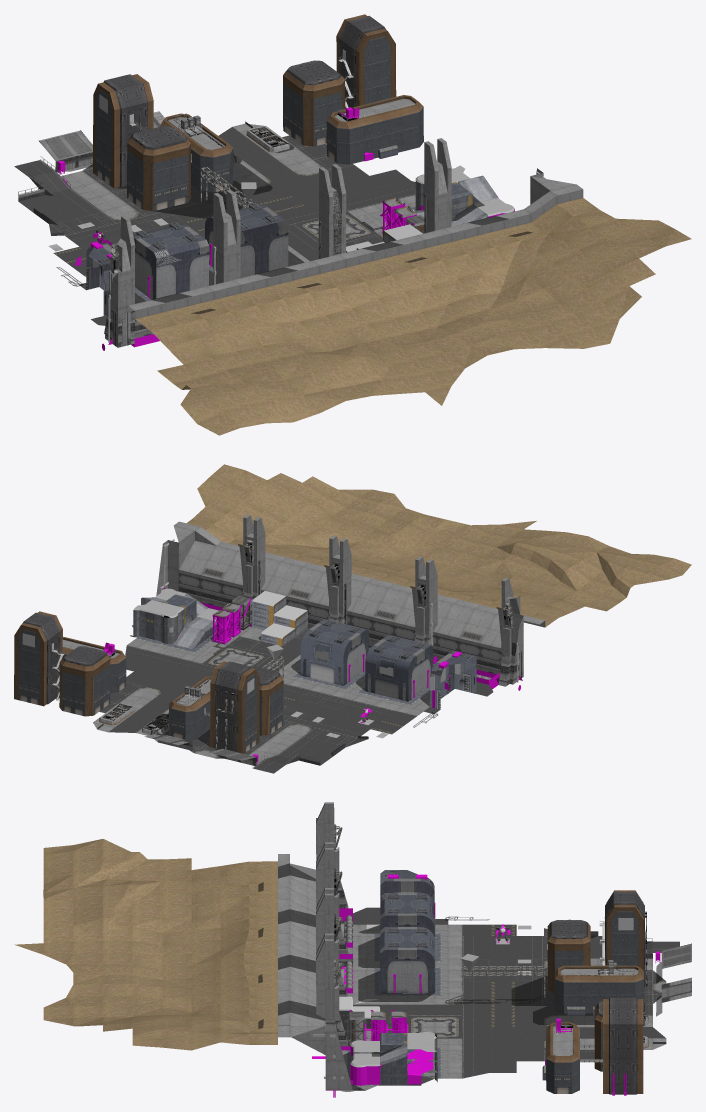
The model's file is all.fbx.
3 renders of one model, top to bottom at view 1: azimuth 30°, elevation 25°; view 2: azimuth 150°, elevation 25°; view 3: azimuth 270°, elevation 25°, orthographic. The views are drawn at different scales.
Visible parts, largest first — view 1: polySurface2, scenebackup:Object009, scenebackup:Object002, scenebackup:Object001, scenebackup:polySurface669, scenebackup:Object007, scenebackup:Object008, scenebackup:polySurface654, scenebackup:polySurface61, scenebackup:Object003, scenebackup:polySurface60, scenebackup:polySurface58 (+5 smaller); view 2: polySurface2, scenebackup:Object001, scenebackup:Object007, scenebackup:polySurface669, scenebackup:polySurface654, scenebackup:Object008, scenebackup:polySurface651, scenebackup:polySurface61, scenebackup:Object003, polySurface3, scenebackup:polySurface58, scenebackup:polySurface59 (+3 smaller); view 3: polySurface2, scenebackup:Object007, scenebackup:polySurface654, scenebackup:Object003, scenebackup:Object001, scenebackup:Object009, scenebackup:Object002, scenebackup:polySurface58, scenebackup:polySurface584, scenebackup:polySurface669, scenebackup:polySurface60, scenebackup:polySurface59 (+12 smaller).
Boxes of the visible parts, x1=… form: polySurface2: x1=14, y1=121, x2=691, y2=435; scenebackup:Object009: x1=326, y1=95, x2=423, y2=164; scenebackup:Object002: x1=127, y1=125, x2=190, y2=211; scenebackup:Object001: x1=93, y1=74, x2=153, y2=188; scenebackup:polySurface669: x1=133, y1=224, x2=209, y2=299; scenebackup:Object007: x1=336, y1=14, x2=396, y2=109; scenebackup:Object008: x1=283, y1=60, x2=345, y2=146; scenebackup:polySurface654: x1=205, y1=204, x2=288, y2=278; scenebackup:polySurface61: x1=104, y1=215, x2=135, y2=347; scenebackup:Object003: x1=160, y1=113, x2=233, y2=192; scenebackup:polySurface60: x1=213, y1=189, x2=240, y2=284; scenebackup:polySurface58: x1=424, y1=138, x2=451, y2=233; polySurface2: x1=93, y1=464, x2=691, y2=773; scenebackup:Object001: x1=210, y1=661, x2=259, y2=753; scenebackup:Object007: x1=14, y1=611, x2=62, y2=706; scenebackup:polySurface669: x1=365, y1=634, x2=433, y2=701; scenebackup:polySurface654: x1=300, y1=619, x2=368, y2=685; scenebackup:Object008: x1=59, y1=646, x2=110, y2=716; scenebackup:polySurface651: x1=252, y1=591, x2=307, y2=646; scenebackup:polySurface61: x1=498, y1=577, x2=523, y2=686; scenebackup:Object003: x1=169, y1=676, x2=211, y2=740; polySurface3: x1=429, y1=650, x2=476, y2=709; scenebackup:polySurface58: x1=242, y1=514, x2=265, y2=622; scenebackup:polySurface59: x1=328, y1=535, x2=351, y2=624; polySurface2: x1=14, y1=839, x2=679, y2=1090; scenebackup:Object007: x1=603, y1=997, x2=643, y2=1094; scenebackup:polySurface654: x1=380, y1=927, x2=434, y2=993; scenebackup:Object003: x1=554, y1=965, x2=644, y2=1013; scenebackup:Object001: x1=605, y1=890, x2=645, y2=988; scenebackup:Object009: x1=546, y1=1022, x2=579, y2=1093; scenebackup:Object002: x1=547, y1=919, x2=590, y2=992; scenebackup:polySurface58: x1=316, y1=933, x2=348, y2=1046; scenebackup:polySurface584: x1=511, y1=975, x2=644, y2=1024; scenebackup:polySurface669: x1=380, y1=893, x2=434, y2=936; scenebackup:polySurface60: x1=316, y1=842, x2=348, y2=953; scenebackup:polySurface59: x1=316, y1=888, x2=347, y2=996.
Size of the model in its own units: 21.72 by 5.14 by 27.22.
